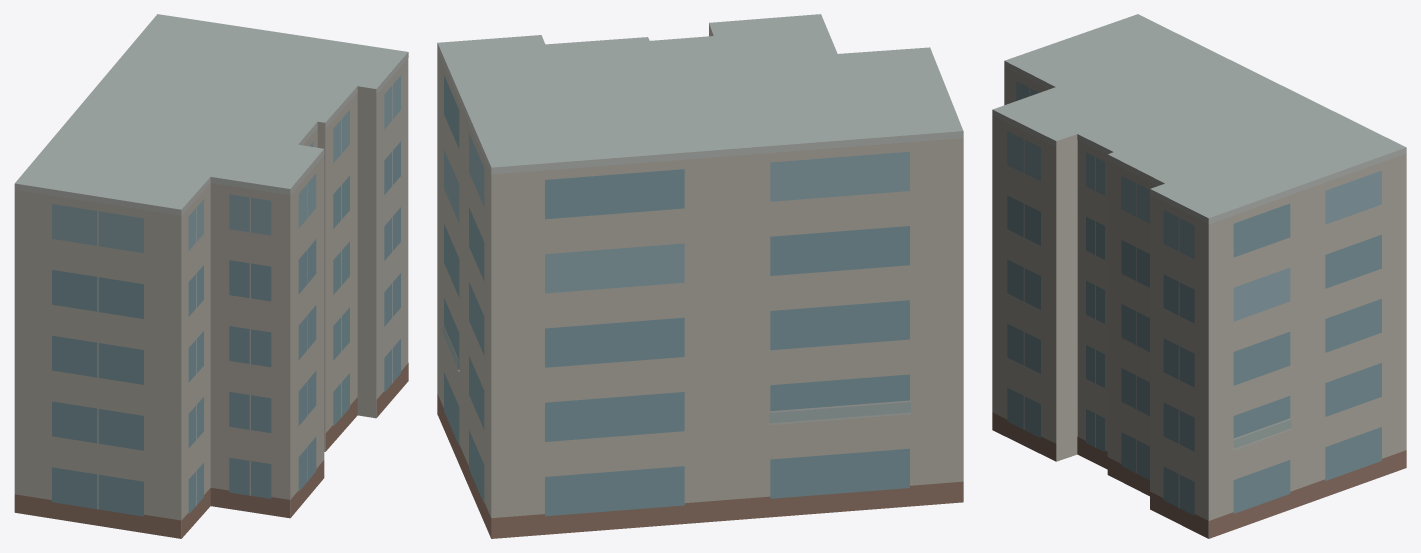
File: survey-upis-32629301.glb
3 views of the same model, side by side, from view 1: azimuth 30°, elevation 25°; view 2: azimuth 150°, elevation 25°; view 3: azimuth 270°, elevation 25° (orthographic). The views are drawn at different scales.
Visible parts, largest first — view 1: survey-upis-32629301.tmp; view 2: survey-upis-32629301.tmp; view 3: survey-upis-32629301.tmp.
Boxes of the visible parts, bbox=[...] form: survey-upis-32629301.tmp: bbox=[14, 14, 408, 538]; survey-upis-32629301.tmp: bbox=[437, 14, 963, 538]; survey-upis-32629301.tmp: bbox=[992, 14, 1406, 538].
Size of the model in its own units: 17.78 by 13 by 15.23.
